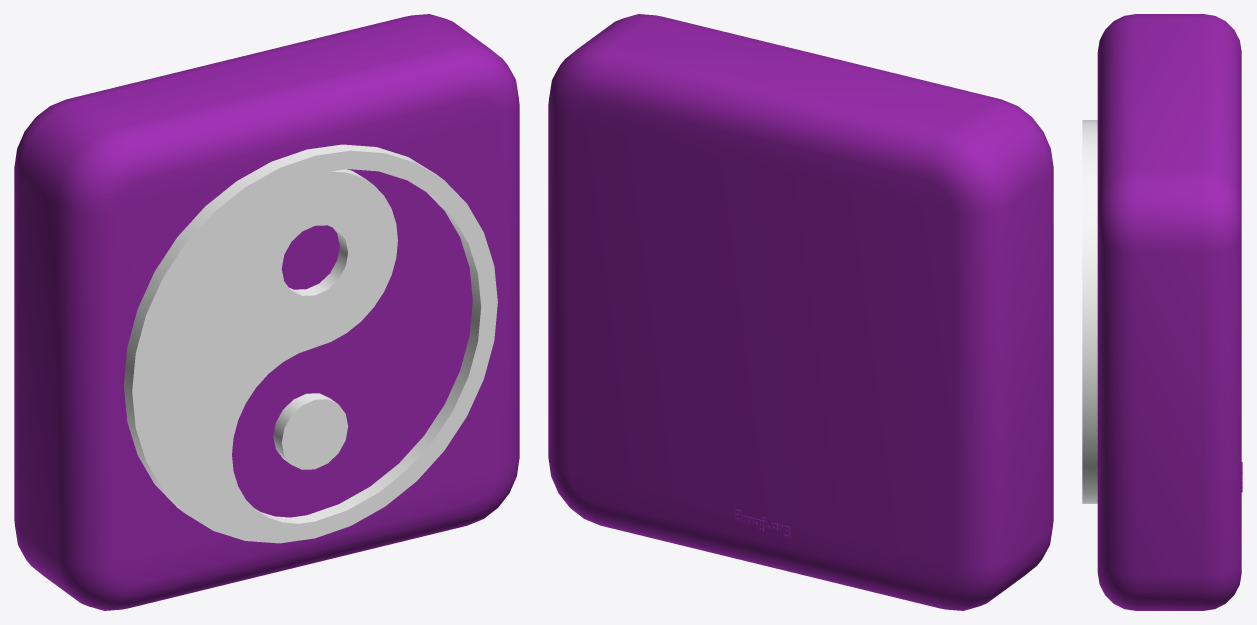
File: yin_yang.glb
3 renders of one model, left to right at view 1: azimuth 30°, elevation 25°; view 2: azimuth 150°, elevation 25°; view 3: azimuth 270°, elevation 25°, orthographic. The views are drawn at different scales.
Parts seen in each view (by area): view 1: Cube.6389; view 2: Cube.6389; view 3: Cube.6389.
Boxes of the visible parts, x1,y1,x2,y2 form: Cube.6389: [14, 14, 519, 610]; Cube.6389: [548, 14, 1053, 610]; Cube.6389: [1082, 14, 1242, 610].
Bounding box in the file's own units: 2.2 × 2.2 × 0.7337.
Materials: 1 (1 with a texture image).
